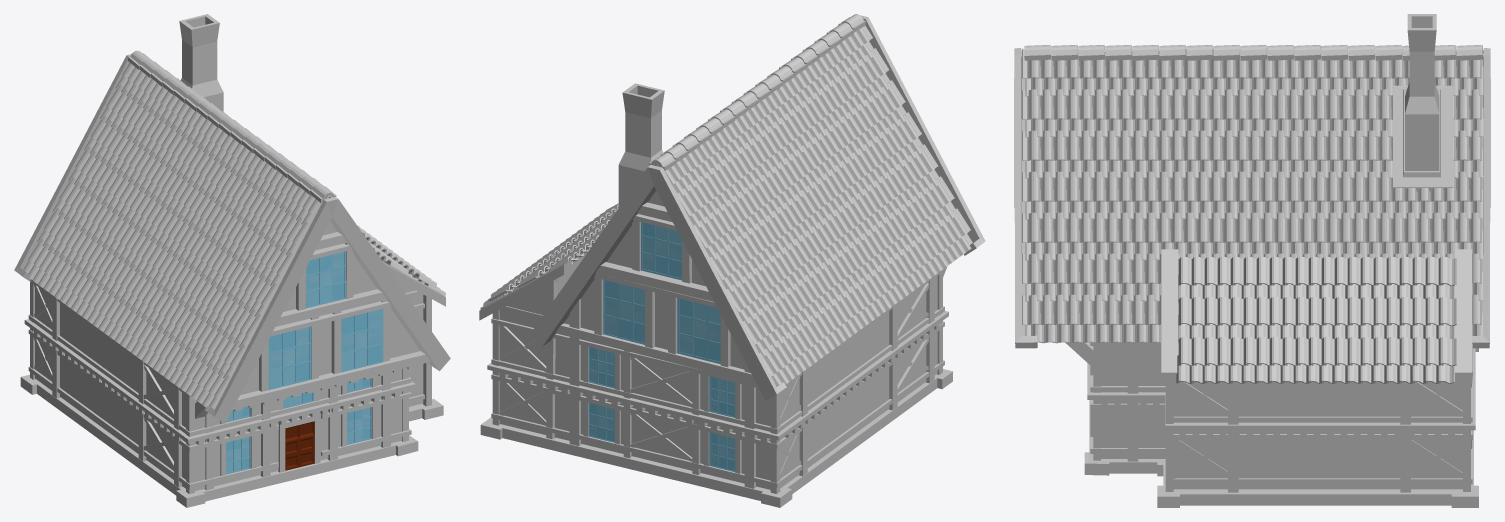
Rendered from Abi bi ol artık mk öldürücem kendimi bu da olmazsa.fbx.
3 renders of one model, left to right at view 1: azimuth 30°, elevation 25°; view 2: azimuth 150°, elevation 25°; view 3: azimuth 270°, elevation 25°, orthographic. The views are drawn at different scales.
Parts seen in each view (by area): view 1: Roof, House Base, House_Edge, Pillar, Wood_Horizontal.001, Base, Horizontal_Divider, Window_Location, roof_TOP, Chimney, Widow_inside.012, Widow_inside.013 (+13 smaller); view 2: Roof, House Base, House_Edge, Pillar.001, Wood_Horizontal.001, Base, Horizontal_Divider, roof_TOP, Window_Location, Criss_cross, Chimney, Wood (+18 smaller); view 3: Roof, Roof.001, House Base, Wood_Horizontal.001, Base, roof_TOP.001, House_Edge, Chimney, House_Edge _2.001, Horizontal_Divider, roof_TOP, Roof.002 (+5 smaller).
Part boxes in pixels (x1,y1,x2,y2): Roof: (23,63,331,409); House Base: (35,221,423,490); House_Edge: (14,54,450,423); Pillar: (52,232,430,490); Wood_Horizontal.001: (28,279,424,488); Base: (20,374,443,507); Horizontal_Divider: (24,319,415,444); Window_Location: (259,243,391,391); roof_TOP: (128,50,336,202); Chimney: (179,14,223,111); Widow_inside.012: (268,326,311,389); Widow_inside.013: (341,308,383,372); Roof: (655,25,972,386); House Base: (499,190,937,489); House_Edge: (531,15,985,400); Pillar.001: (500,202,934,488); Wood_Horizontal.001: (491,268,944,487); Base: (480,369,952,507); Horizontal_Divider: (487,311,948,441); roof_TOP: (648,14,865,170); Window_Location: (594,214,730,367); Criss_cross: (499,283,928,478); Chimney: (618,83,664,207); Wood: (492,272,942,493); Roof: (1022,46,1483,342); Roof.001: (1176,256,1456,383); House Base: (1101,303,1462,489); Wood_Horizontal.001: (1090,342,1472,484); Base: (1084,348,1478,507); roof_TOP.001: (1024,45,1483,60); House_Edge: (1014,48,1490,348); Chimney: (1405,14,1439,192); House_Edge _2.001: (1161,249,1472,383); Horizontal_Divider: (1087,348,1475,435); roof_TOP: (1024,45,1483,60); Roof.002: (1022,47,1483,343).
Bounding box in the file's own units: 840 × 915 × 966.
